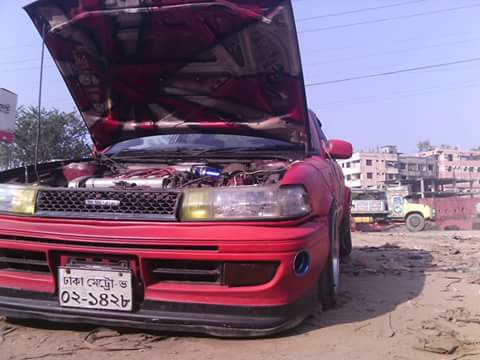registration_plate: (58, 267, 133, 311)
